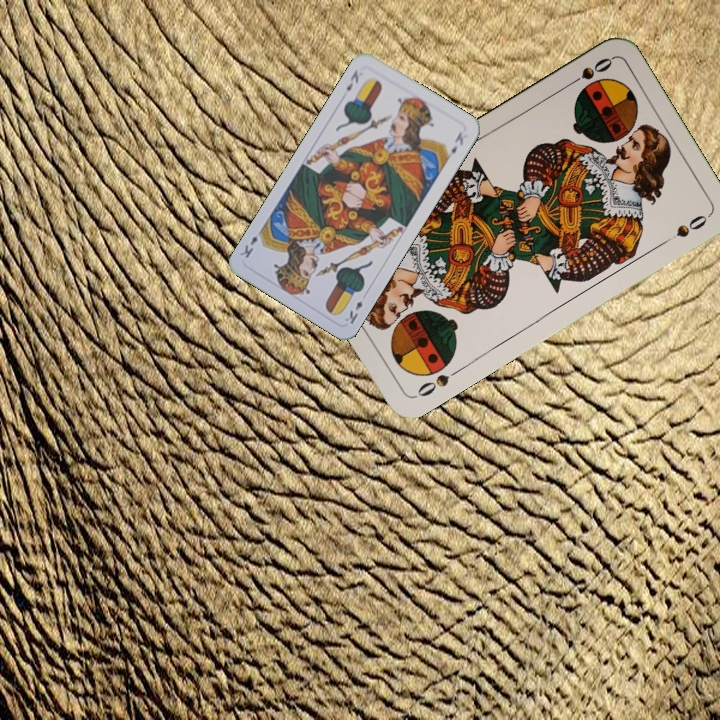EK: (341, 296, 365, 327), (342, 66, 361, 94)
SO: (561, 53, 616, 91), (411, 364, 464, 401)
